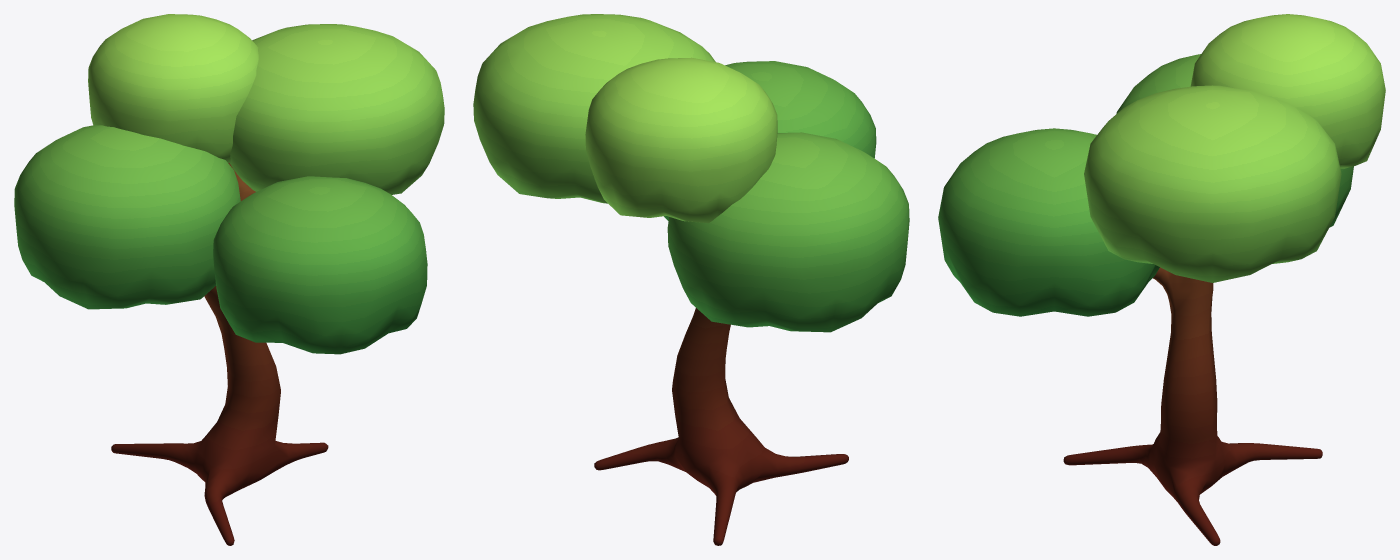
Rendered from sm_forest_tree.fbx.
3 renders of one model, left to right at view 1: azimuth 30°, elevation 25°; view 2: azimuth 150°, elevation 25°; view 3: azimuth 270°, elevation 25°, orthographic. The views are drawn at different scales.
Parts seen in each view (by area): view 1: sm_forest_tree; view 2: sm_forest_tree; view 3: sm_forest_tree.
Part boxes in pixels (box(x1,y1,x2,y2)): sm_forest_tree: box(14, 14, 444, 545); sm_forest_tree: box(473, 14, 909, 545); sm_forest_tree: box(938, 14, 1385, 545).
Bounding box in the file's own units: 1179 × 1090 × 1249.
